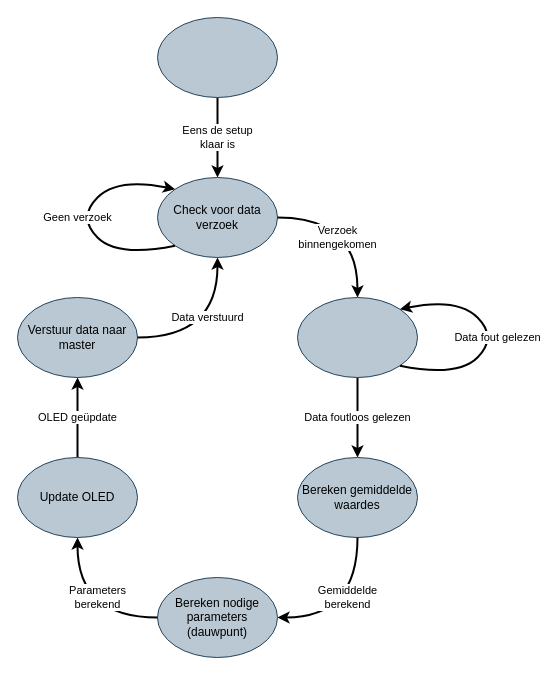
This 558x675 diagram has some shape labels left out. Here are the shapes that lost their labels. From the top down, the centre of each, then its label:
(x=217, y=57): Setup
(x=357, y=337): Lees sensor data meerdere keren
